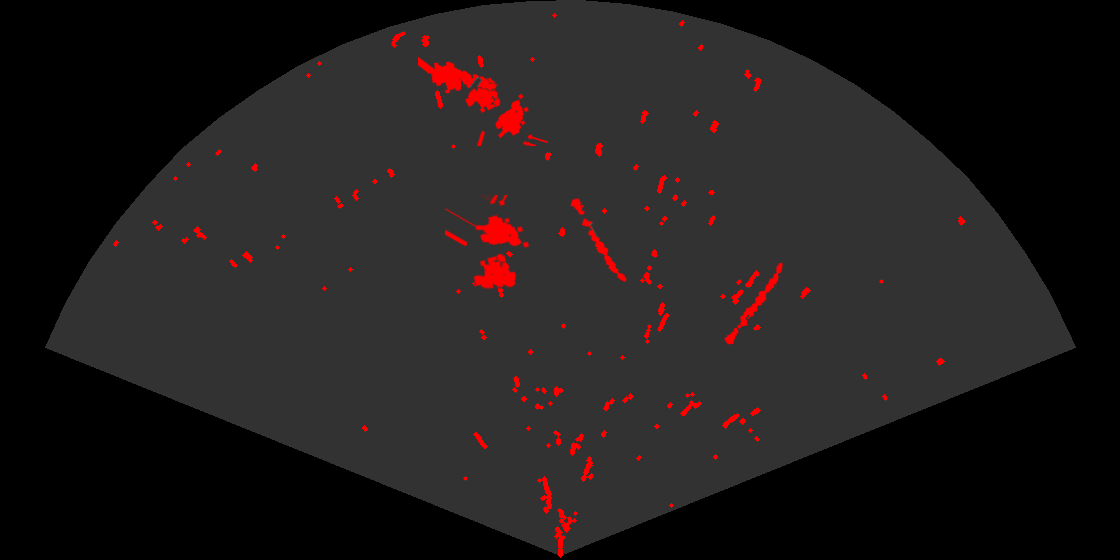cage: (445, 195, 531, 291), (464, 76, 548, 146)
chain: (723, 261, 784, 346), (569, 196, 628, 283)
frogman: (418, 55, 498, 95)
